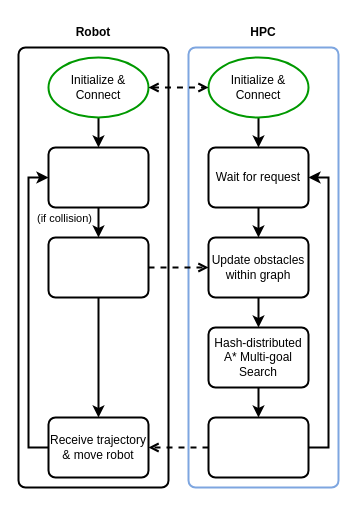
The diagram is 356 pixels wide and 505 high, and some of its shapes have lost their labels. Here are the shapes that lost their labels. From the top down, the centre of each, then its label:
At (x=98, y=177): "Trigger & Collision Check".
At (x=98, y=267): "Send request".
At (x=258, y=447): "Generate path & send to robot".
